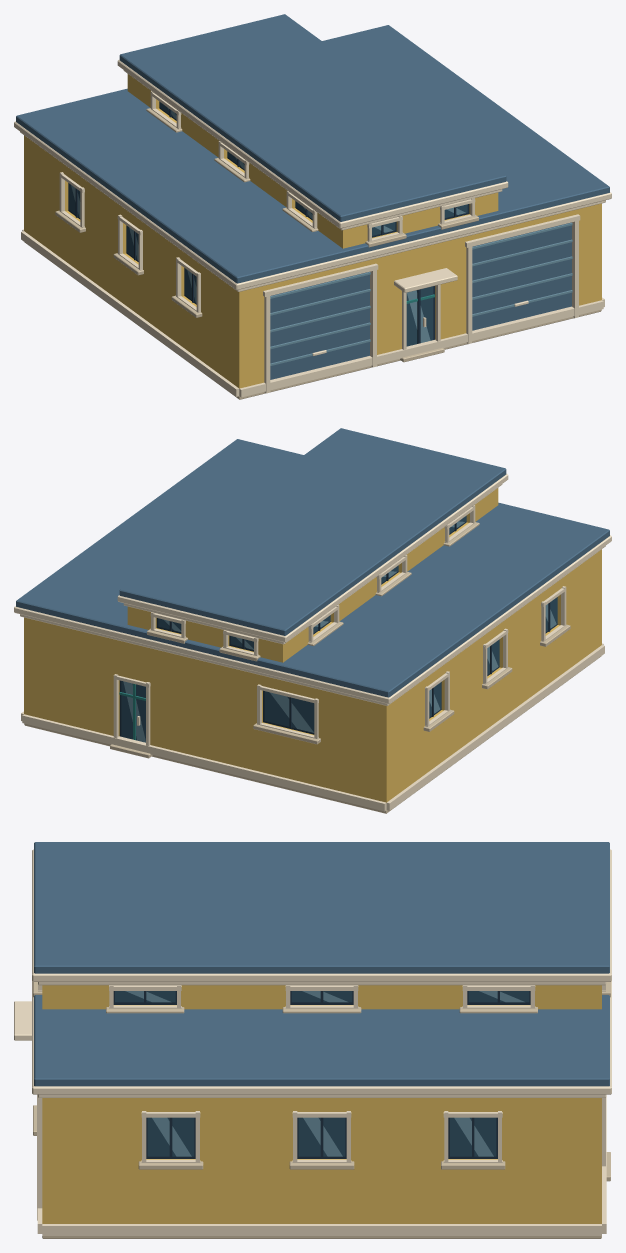
The model's file is raised_roof_storehouse.glb.
The picture shows the model from 3 angles, top to bottom: view 1: azimuth 30°, elevation 25°; view 2: azimuth 150°, elevation 25°; view 3: azimuth 270°, elevation 25°; orthographic projection. The views are drawn at different scales.
Visible parts, largest first — view 1: RaisedRoofStorehouse_StaticMesh; view 2: RaisedRoofStorehouse_StaticMesh; view 3: RaisedRoofStorehouse_StaticMesh.
Boxes of the visible parts, x1,y1,x2,y2 form: RaisedRoofStorehouse_StaticMesh: [14, 14, 611, 399]; RaisedRoofStorehouse_StaticMesh: [14, 428, 611, 813]; RaisedRoofStorehouse_StaticMesh: [14, 842, 611, 1238].
Bounding box in the file's own units: 14.52 × 5.99 × 15.39.
